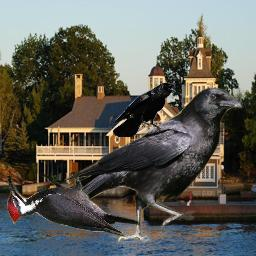Crow: (53, 86, 248, 245), (113, 82, 176, 137)
Woodpecker: (7, 172, 140, 237)
